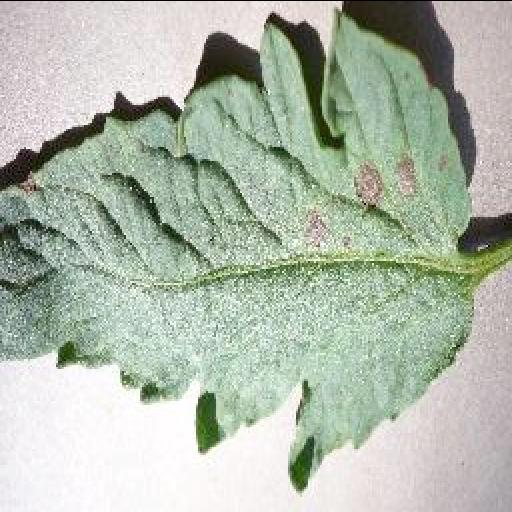disease_tomato: (4, 4, 476, 493)
